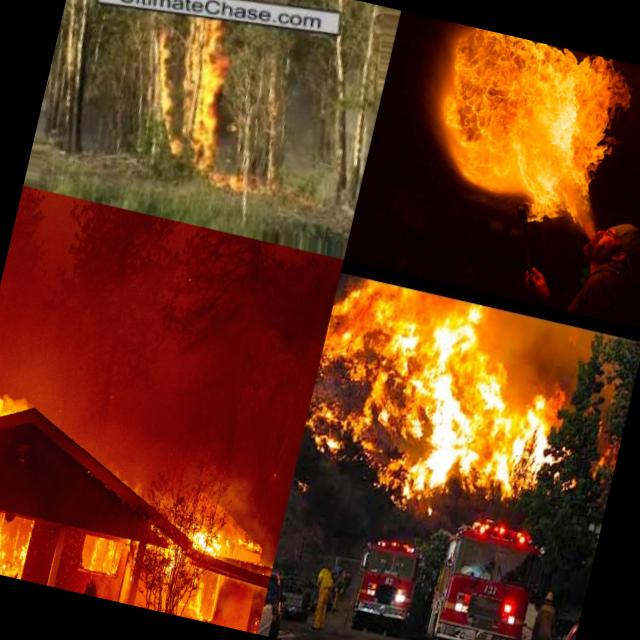fire: (296, 273, 580, 516), (417, 23, 640, 235), (118, 8, 296, 196), (183, 522, 227, 571), (0, 535, 24, 578), (0, 380, 13, 437)
